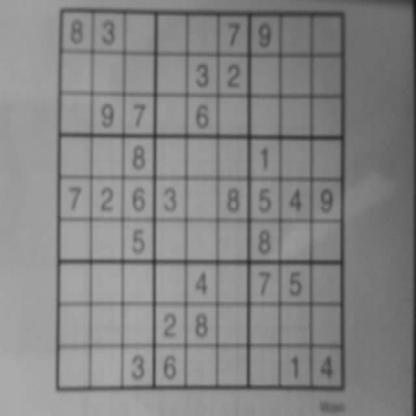sudoku: (54, 3, 350, 397)
